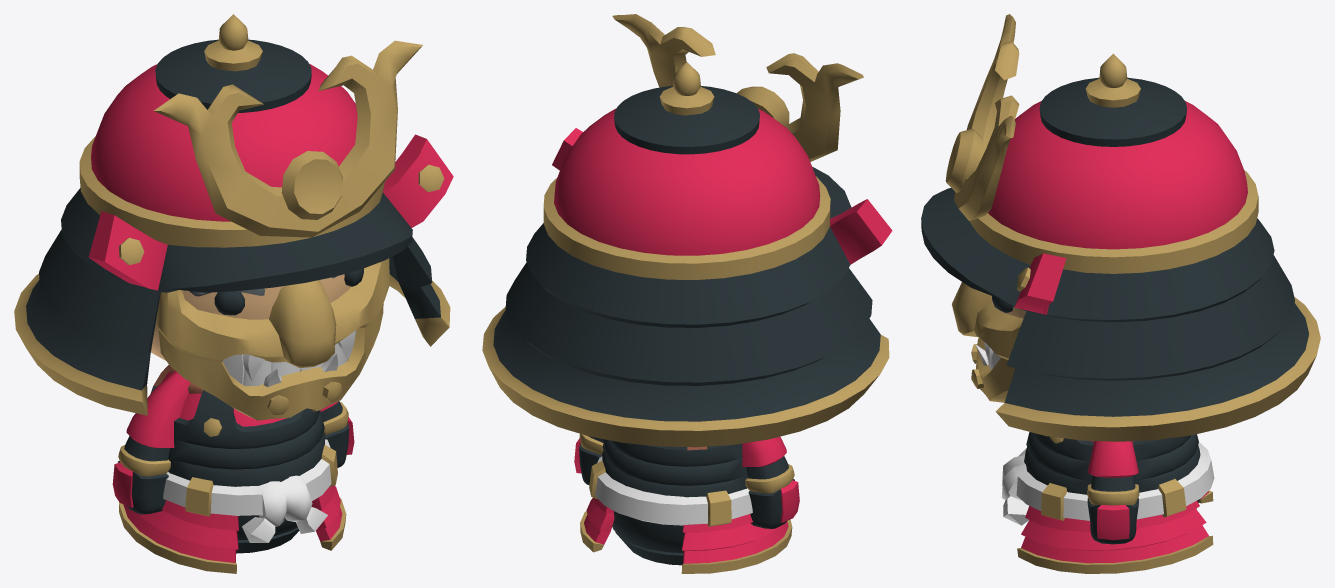
File: character_samurai_red.fbx
3 renders of one model, left to right at view 1: azimuth 30°, elevation 25°; view 2: azimuth 150°, elevation 25°; view 3: azimuth 270°, elevation 25°, orthographic. The views are drawn at different scales.
Parts seen in each view (by area): view 1: character_samurai_head_red, character_samurai_body_red, character_samurai__mask_gold, character_samurai_armRight_red, character_samurai_armLeft_red; view 2: character_samurai_head_red, character_samurai_body_red, character_samurai_armRight_red, character_samurai_armLeft_red; view 3: character_samurai_head_red, character_samurai_body_red, character_samurai_armLeft_red, character_samurai__mask_gold.
Part boxes in pixels (x1,y1,x2,y2): character_samurai_head_red: (14,14,453,415); character_samurai_body_red: (119,365,346,573); character_samurai__mask_gold: (157,258,389,420); character_samurai_armRight_red: (112,370,190,514); character_samurai_armLeft_red: (320,401,354,467); character_samurai_head_red: (482,14,892,447); character_samurai_body_red: (580,439,792,573); character_samurai_armRight_red: (742,436,799,528); character_samurai_armLeft_red: (574,433,604,484); character_samurai_head_red: (921,14,1320,441); character_samurai_body_red: (1001,432,1214,573); character_samurai_armLeft_red: (1087,441,1139,544); character_samurai__mask_gold: (952,282,1023,402).
Size of the model in its own units: 1.61 by 2.08 by 1.56.
